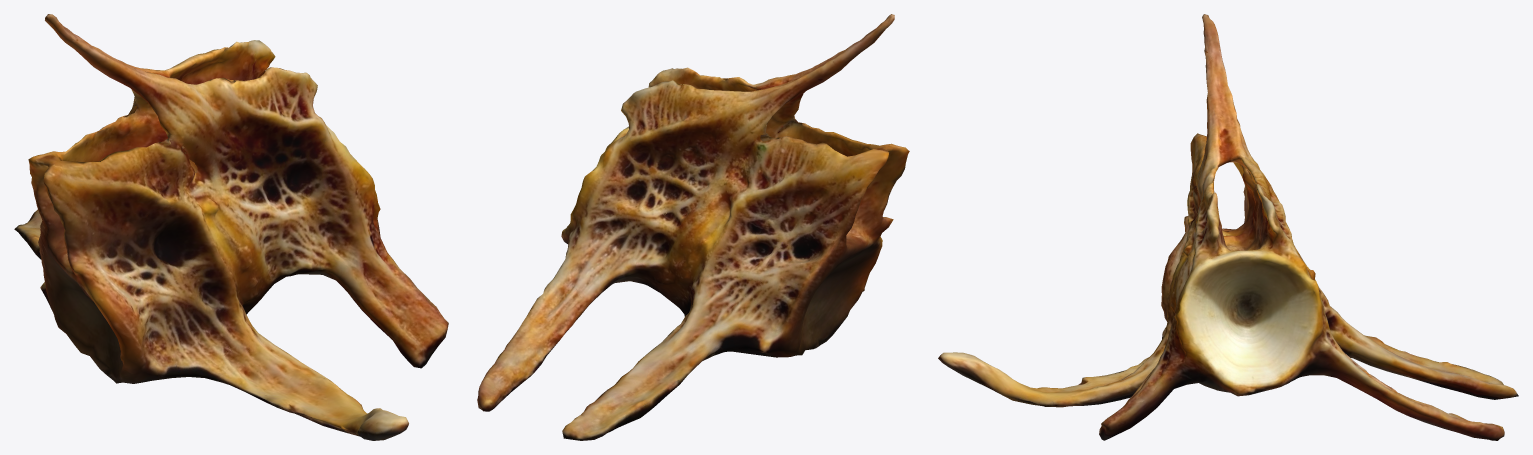
File: vertebra corbina.glb
The picture shows the model from 3 angles, left to right: view 1: azimuth 30°, elevation 25°; view 2: azimuth 150°, elevation 25°; view 3: azimuth 270°, elevation 25°; orthographic projection. The views are drawn at different scales.
Parts seen in each view (by area): view 1: 3DModel; view 2: 3DModel; view 3: 3DModel.
Part boxes in pixels (bbox=[...]): 3DModel: bbox=[14, 14, 448, 440]; 3DModel: bbox=[477, 14, 909, 440]; 3DModel: bbox=[938, 14, 1518, 440].
Bounding box in the file's own units: 0.3561 × 0.3771 × 0.6262.
1 material, 1 textured.
